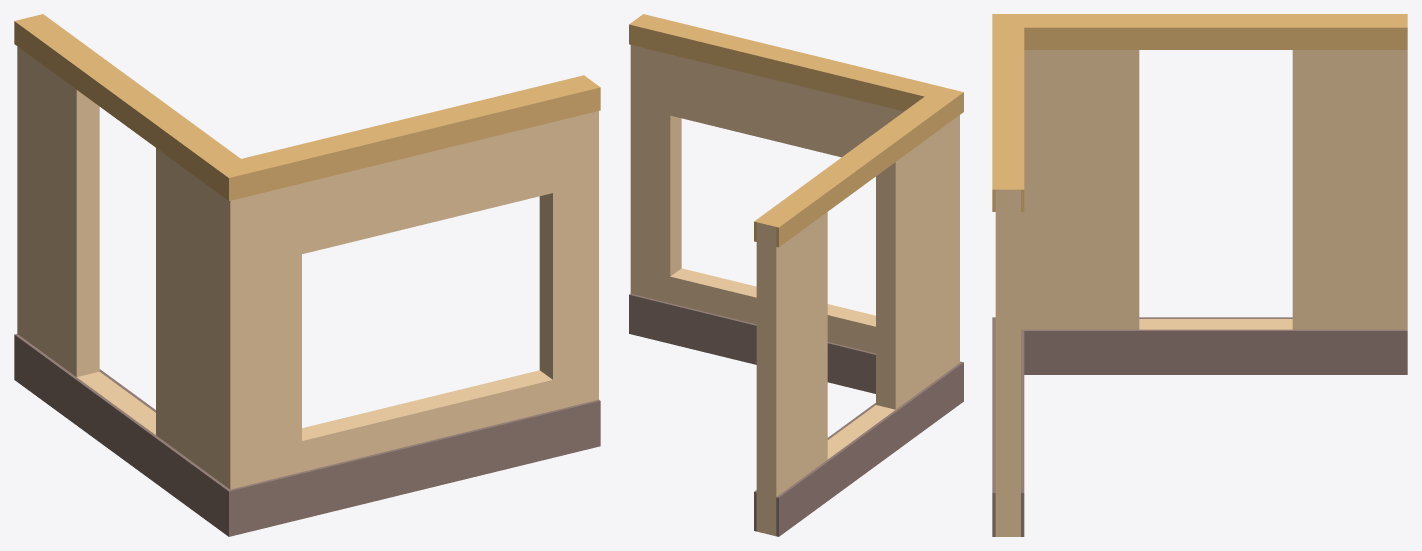
Rendered from Wall05-06.fbx.
The picture shows the model from 3 angles, left to right: view 1: azimuth 30°, elevation 25°; view 2: azimuth 150°, elevation 25°; view 3: azimuth 270°, elevation 25°; orthographic projection. The views are drawn at different scales.
Visible parts, largest first — view 1: Wall05-06; view 2: Wall05-06; view 3: Wall05-06.
Boxes of the visible parts, <box> form: Wall05-06: <box>14,14,600,536</box>; Wall05-06: <box>629,14,963,536</box>; Wall05-06: <box>992,14,1407,536</box>.
Bounding box in the file's own units: 3.25 × 3.25 × 3.
